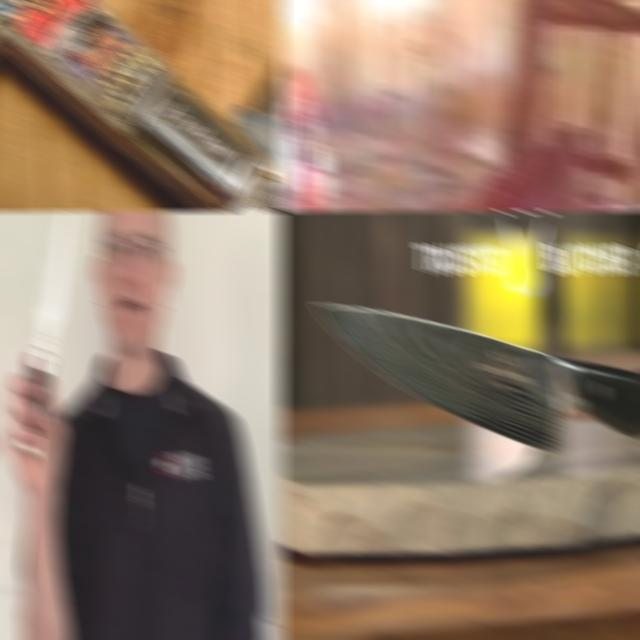Knife: (313, 302, 640, 450)
Knife_Handle: (278, 49, 466, 212), (4, 210, 75, 504)
